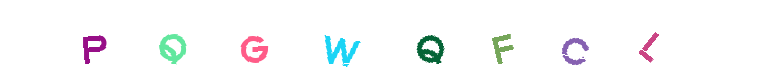C: (449, 0, 529, 80)
F: (390, 0, 470, 80)
G: (300, 0, 380, 80)
L: (515, 0, 595, 80)
P: (52, 0, 132, 80)
Q: (164, 0, 244, 80), (351, 0, 431, 80)
W: (347, 0, 427, 80)
